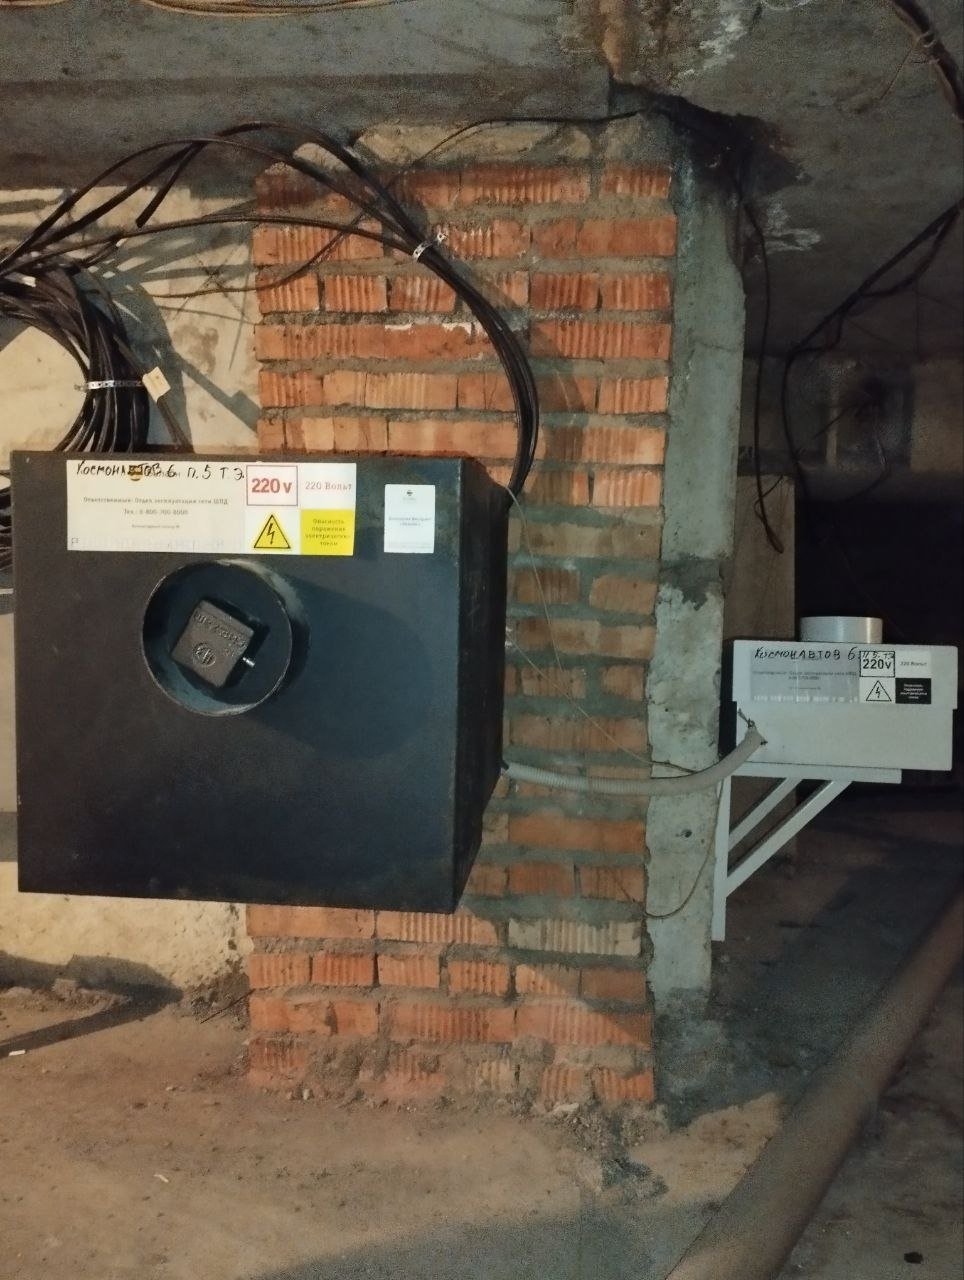shta-9: (8, 447, 517, 919)
shta-ps: (722, 612, 962, 770)
